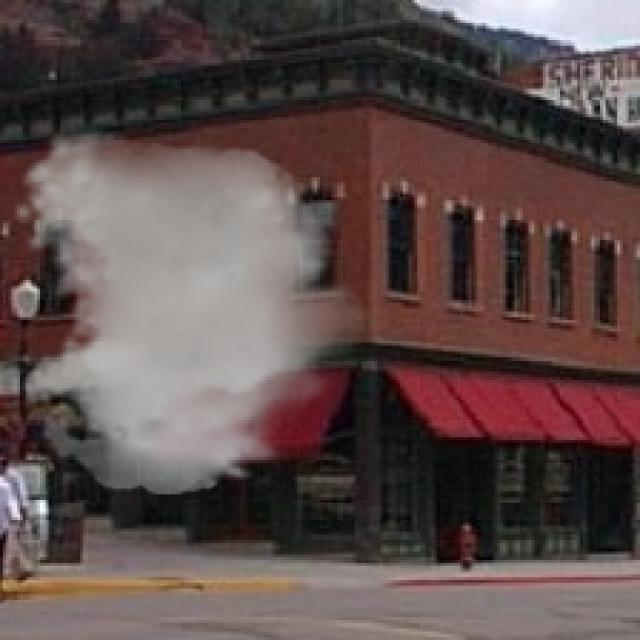smoke: (11, 129, 380, 494)
